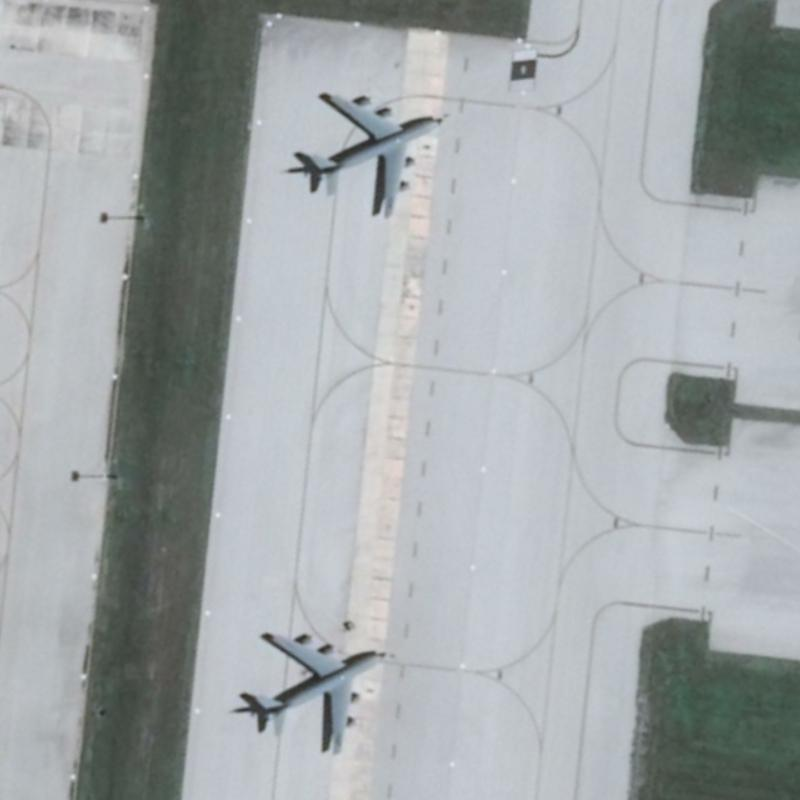A14: (286, 81, 448, 224), (235, 627, 388, 753)
